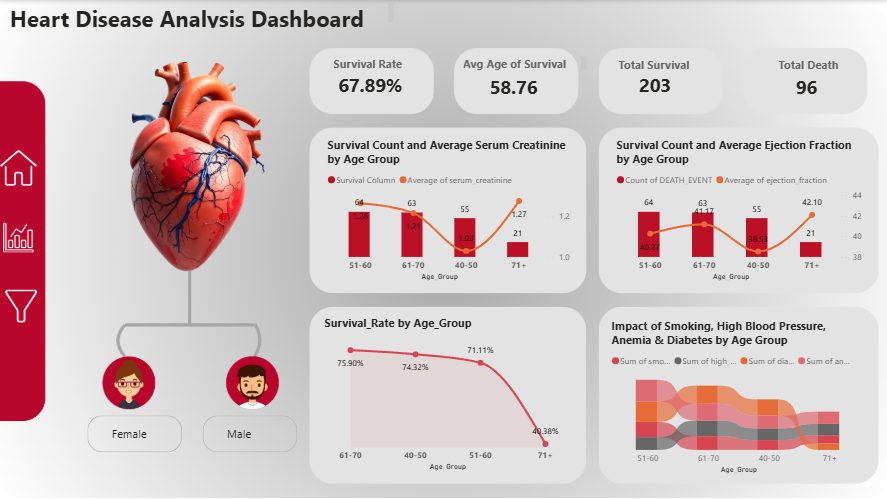

What the dashboard file says about the page in this screenshot:
{"tool":"powerbi","page":{"name":"Page 1","canvas":[1280,720],"ordinal":0},"visuals":[{"type":"textbox","box":[10.1,0,561.6,44.6],"z":0},{"type":"card","fields":{"Values":["heart_Disease_clinical_records_.Survival_Rate"]},"box":[468,93.6,129.6,59],"z":1000},{"type":"card","fields":{"Values":["heart_Disease_clinical_records_.Average_Age_Survival"]},"box":[673.9,90.7,131,72],"z":2000},{"type":"card","fields":{"Values":["heart_Disease_clinical_records_.Total_Surviour"]},"box":[889.9,97.9,106.6,51.8],"z":3000},{"type":"card","fields":{"Values":["heart_Disease_clinical_records_.Total_Death"]},"box":[1118.9,103.7,85,46.1],"z":4000},{"type":"textbox","box":[475.2,76.3,121,34.6],"z":5000},{"type":"textbox","box":[662.4,76.3,187.2,30.2],"z":6000},{"type":"textbox","box":[885.6,77.8,128.2,36],"z":7000},{"type":"textbox","box":[1116,77.8,128.2,36],"z":8000},{"type":"lineClusteredColumnComboChart","title":"Survival  Count and Average Serum Creatinine by Age Group","fields":{"Category":["heart_Disease_clinical_records_.Age_Group"],"Y":["CountNonNull(heart_Disease_clinical_records_.DEATH_EVENT)"],"Y2":["Avg(heart_Disease_clinical_records_.serum_creatinine)"]},"box":[466.6,197.3,361.4,211.7],"z":9000},{"type":"lineClusteredColumnComboChart","title":"Survival Count and Average Ejection Fraction by Age Group","fields":{"Category":["heart_Disease_clinical_records_.Age_Group"],"Y":["CountNonNull(heart_Disease_clinical_records_.DEATH_EVENT)"],"Y2":["Avg(heart_Disease_clinical_records_.ejection_fraction)"]},"box":[882.7,197.3,364.3,211.7],"z":10000},{"type":"lineChart","fields":{"Category":["heart_Disease_clinical_records_.Age_Group"],"Y":["heart_Disease_clinical_records_.Survival_Rate"]},"box":[462.2,453.6,365.8,229],"z":11000},{"type":"ribbonChart","title":"Impact of Smoking, High Blood Pressure, Anemia & Diabetes by Age Group","fields":{"Category":["heart_Disease_clinical_records_.Age_Group"],"Y":["Sum(heart_Disease_clinical_records_.smoking)","Sum(heart_Disease_clinical_records_.high_blood_pressure)","Sum(heart_Disease_clinical_records_.diabetes)","Sum(heart_Disease_clinical_records_.anaemia)"]},"box":[875.5,457.9,377.3,229],"z":12000},{"type":"advancedSlicerVisual","fields":{"Values":["heart_Disease_clinical_records_.Gender"]},"box":[121,593.3,312.5,63.4],"z":13000}]}

Visuals, with their boxes in screenshot pixels (x1, y1, x2, y2), scaled from the page's 1280x720 canvas onto the 887x499 screenshot:
textbox: (7, 0, 396, 31)
card - heart_Disease_clinical_records_.Survival_Rate: (324, 65, 414, 106)
card - heart_Disease_clinical_records_.Average_Age_Survival: (467, 63, 558, 113)
card - heart_Disease_clinical_records_.Total_Surviour: (617, 68, 691, 104)
card - heart_Disease_clinical_records_.Total_Death: (775, 72, 834, 104)
textbox: (329, 53, 413, 77)
textbox: (459, 53, 589, 74)
textbox: (614, 54, 703, 79)
textbox: (773, 54, 862, 79)
"Survival  Count and Average Serum Creatinine by Age Group" lineClusteredColumnComboChart: (323, 137, 574, 283)
"Survival Count and Average Ejection Fraction by Age Group" lineClusteredColumnComboChart: (612, 137, 864, 283)
lineChart - heart_Disease_clinical_records_.Age_Group x heart_Disease_clinical_records_.Survival_Rate: (320, 314, 574, 473)
"Impact of Smoking, High Blood Pressure, Anemia & Diabetes by Age Group" ribbonChart: (607, 317, 868, 476)
advancedSlicerVisual - heart_Disease_clinical_records_.Gender: (84, 411, 300, 455)
